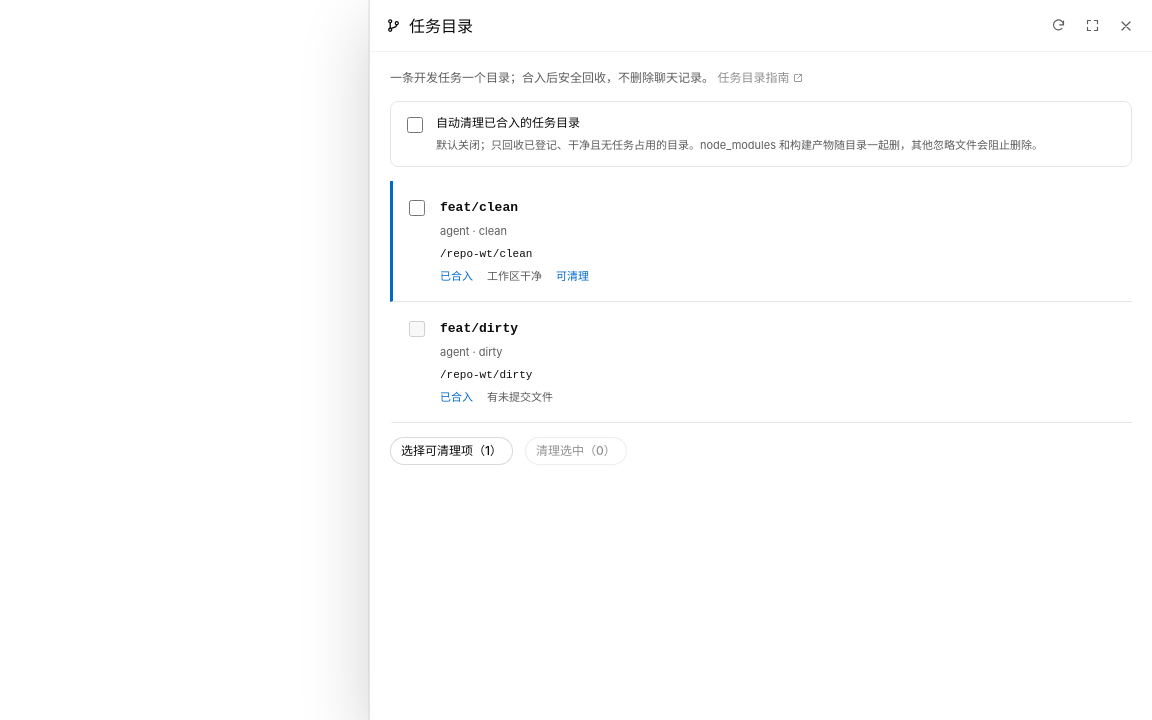
Scenario: WorktreePanel › only selects eligible checkouts and requires confirmation with an exact commit snapshot
expect the text "feat/clean" is shown: met, box [440,200,518,215]
expect the checkbox named "选择目录 feat/dirty" is disabled: met, box [409,321,425,337]
What coordinates should you click on to do the following:
click the button "选择可清理项（1）"
I would click on:
 (452, 451)
Its box is [390,437,513,465].
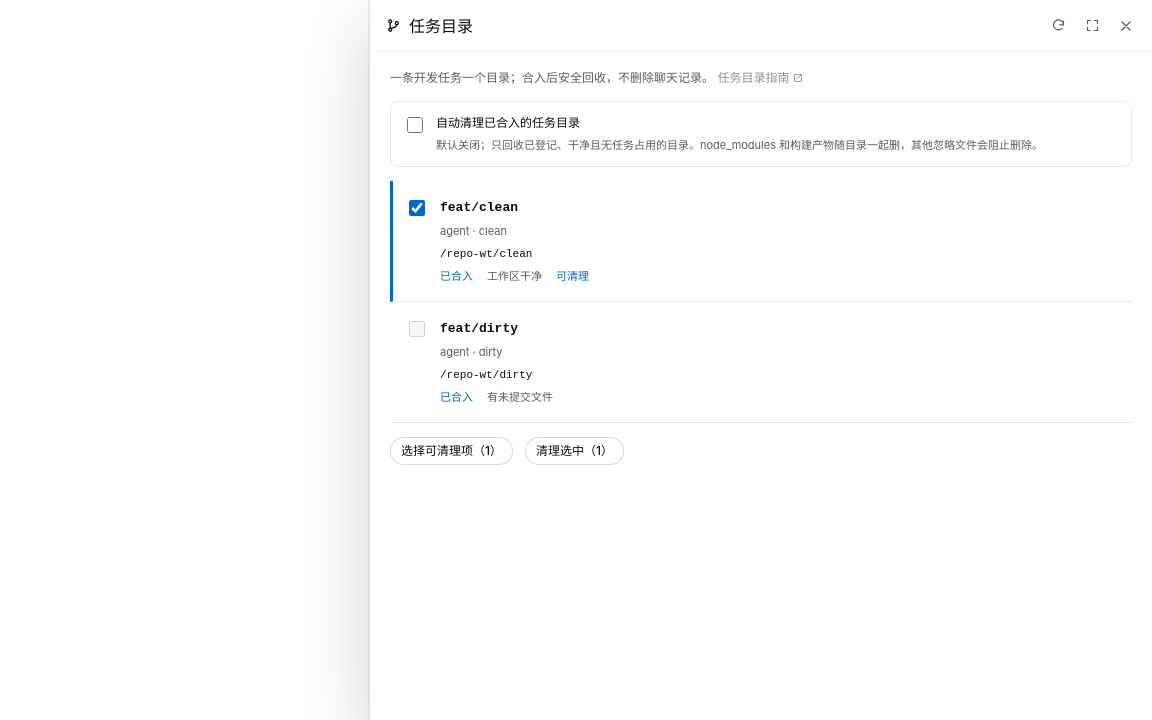
What coordinates should you click on to do the following:
click the button "清理选中（1）"
I would click on:
 (574, 451)
Its box is [525,437,624,465].
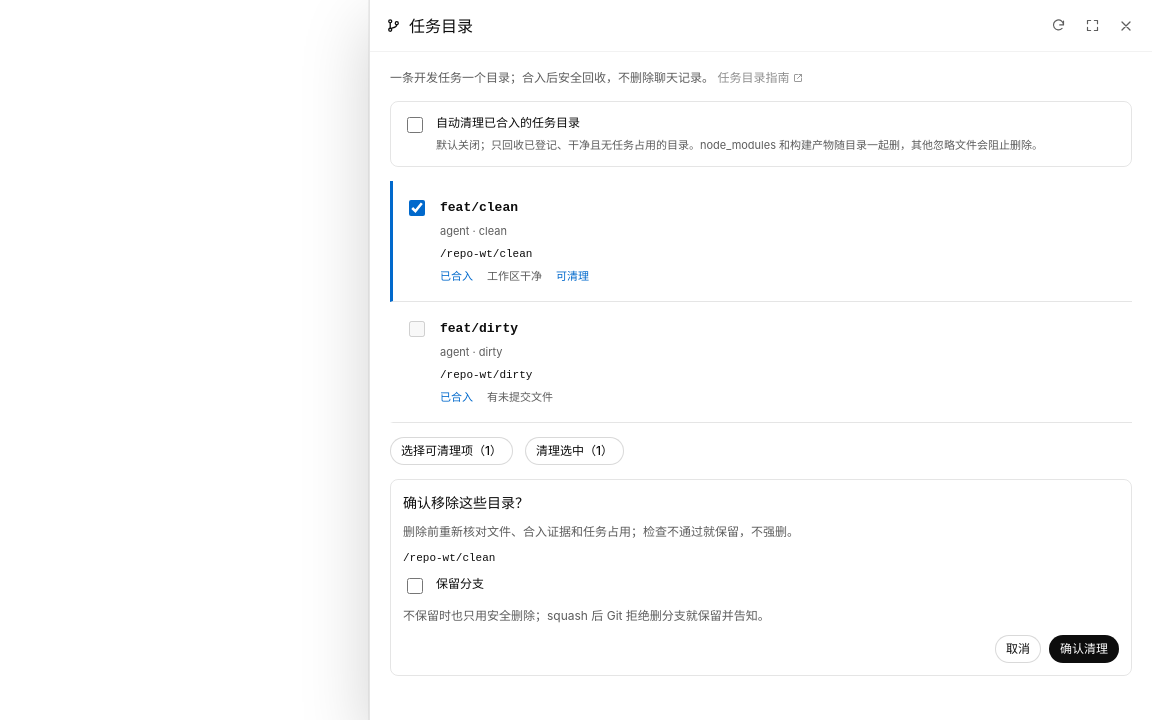
What coordinates should you click on to do the following:
click the button "确认清理"
I would click on:
 (1084, 649)
Its box is [1049,635,1119,663].
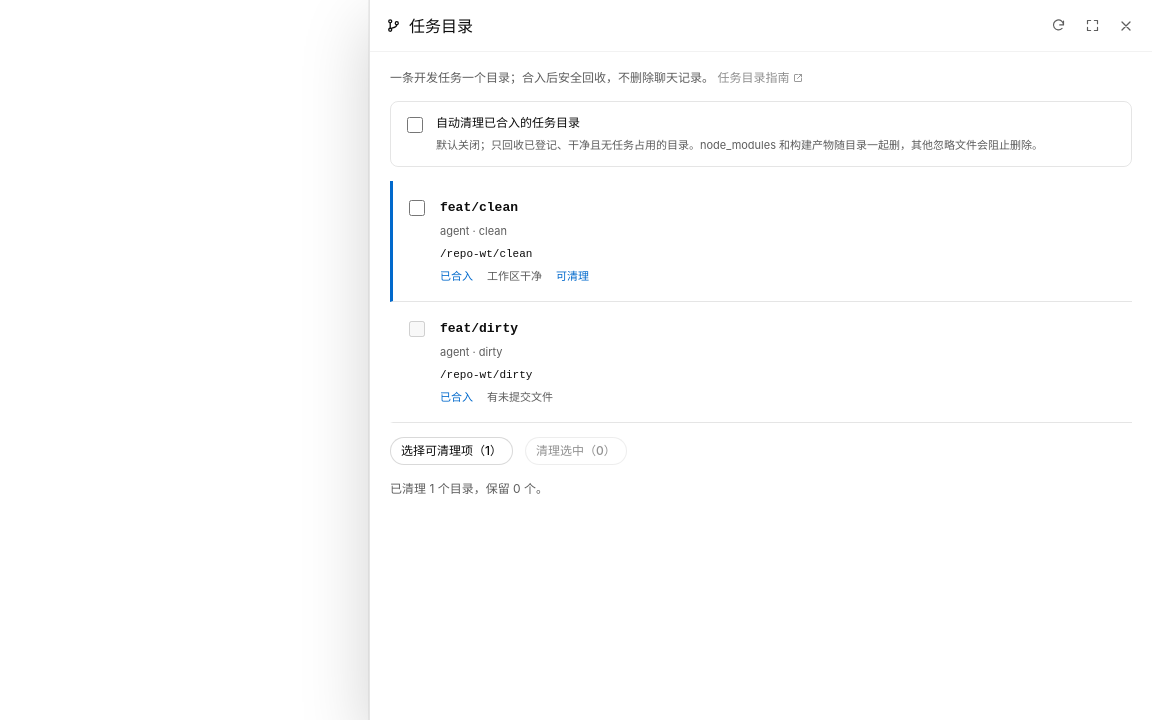
expect the text "已清理 1 个目录，保留 0 个。" is shown: met, box [390,481,548,496]
